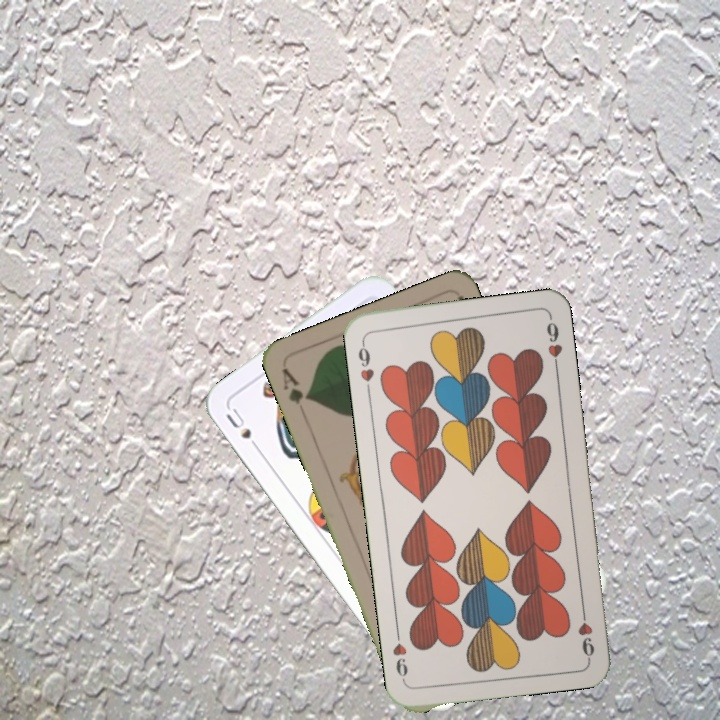GA: (278, 363, 313, 408)
H9: (354, 336, 377, 395), (574, 602, 597, 661)
SU: (222, 404, 265, 456)
